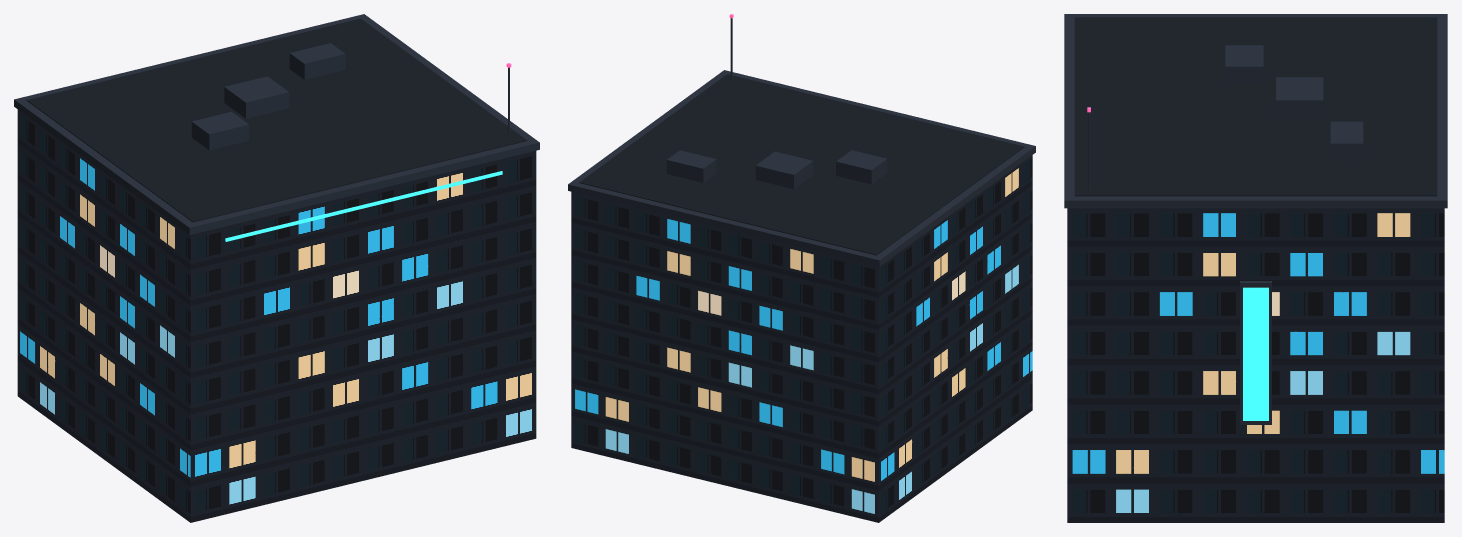
The model's file is building_b.glb.
3 views of the same model, side by side, from view 1: azimuth 30°, elevation 25°; view 2: azimuth 150°, elevation 25°; view 3: azimuth 270°, elevation 25° (orthographic). The views are drawn at different scales.
Parts seen in each view (by area): view 1: building; view 2: building; view 3: building.
Boxes of the visible parts, x1,y1,x2,y2 form: building: [14, 14, 539, 522]; building: [568, 14, 1035, 522]; building: [1064, 14, 1447, 522].
Size of the model in its own units: 31.06 by 30.83 by 26.4.
5 materials, 1 textured.
